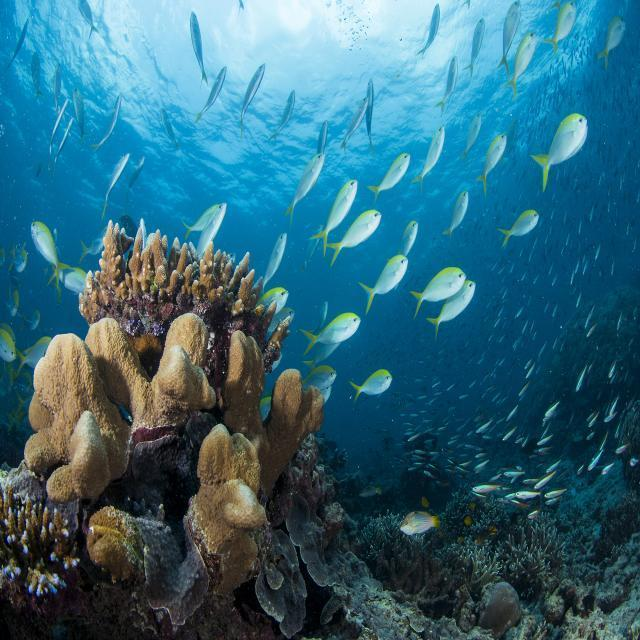Healthy Coral: (132, 319, 336, 446), (25, 305, 134, 504), (87, 218, 255, 298), (192, 426, 272, 576), (0, 492, 83, 604)
